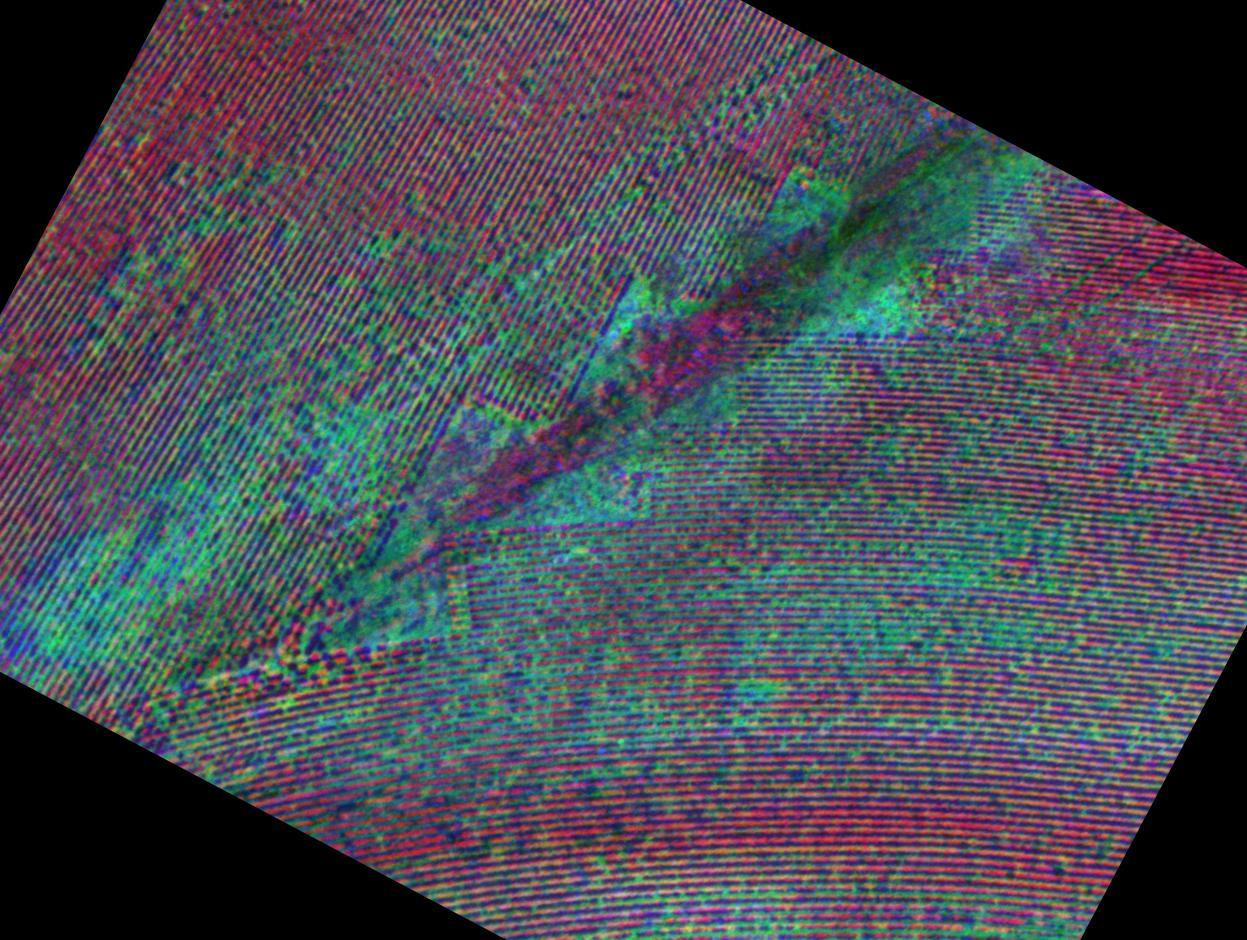dc: (309, 413, 382, 490), (32, 570, 101, 651), (848, 272, 918, 340), (158, 510, 216, 578), (561, 471, 617, 522), (938, 190, 981, 242)
